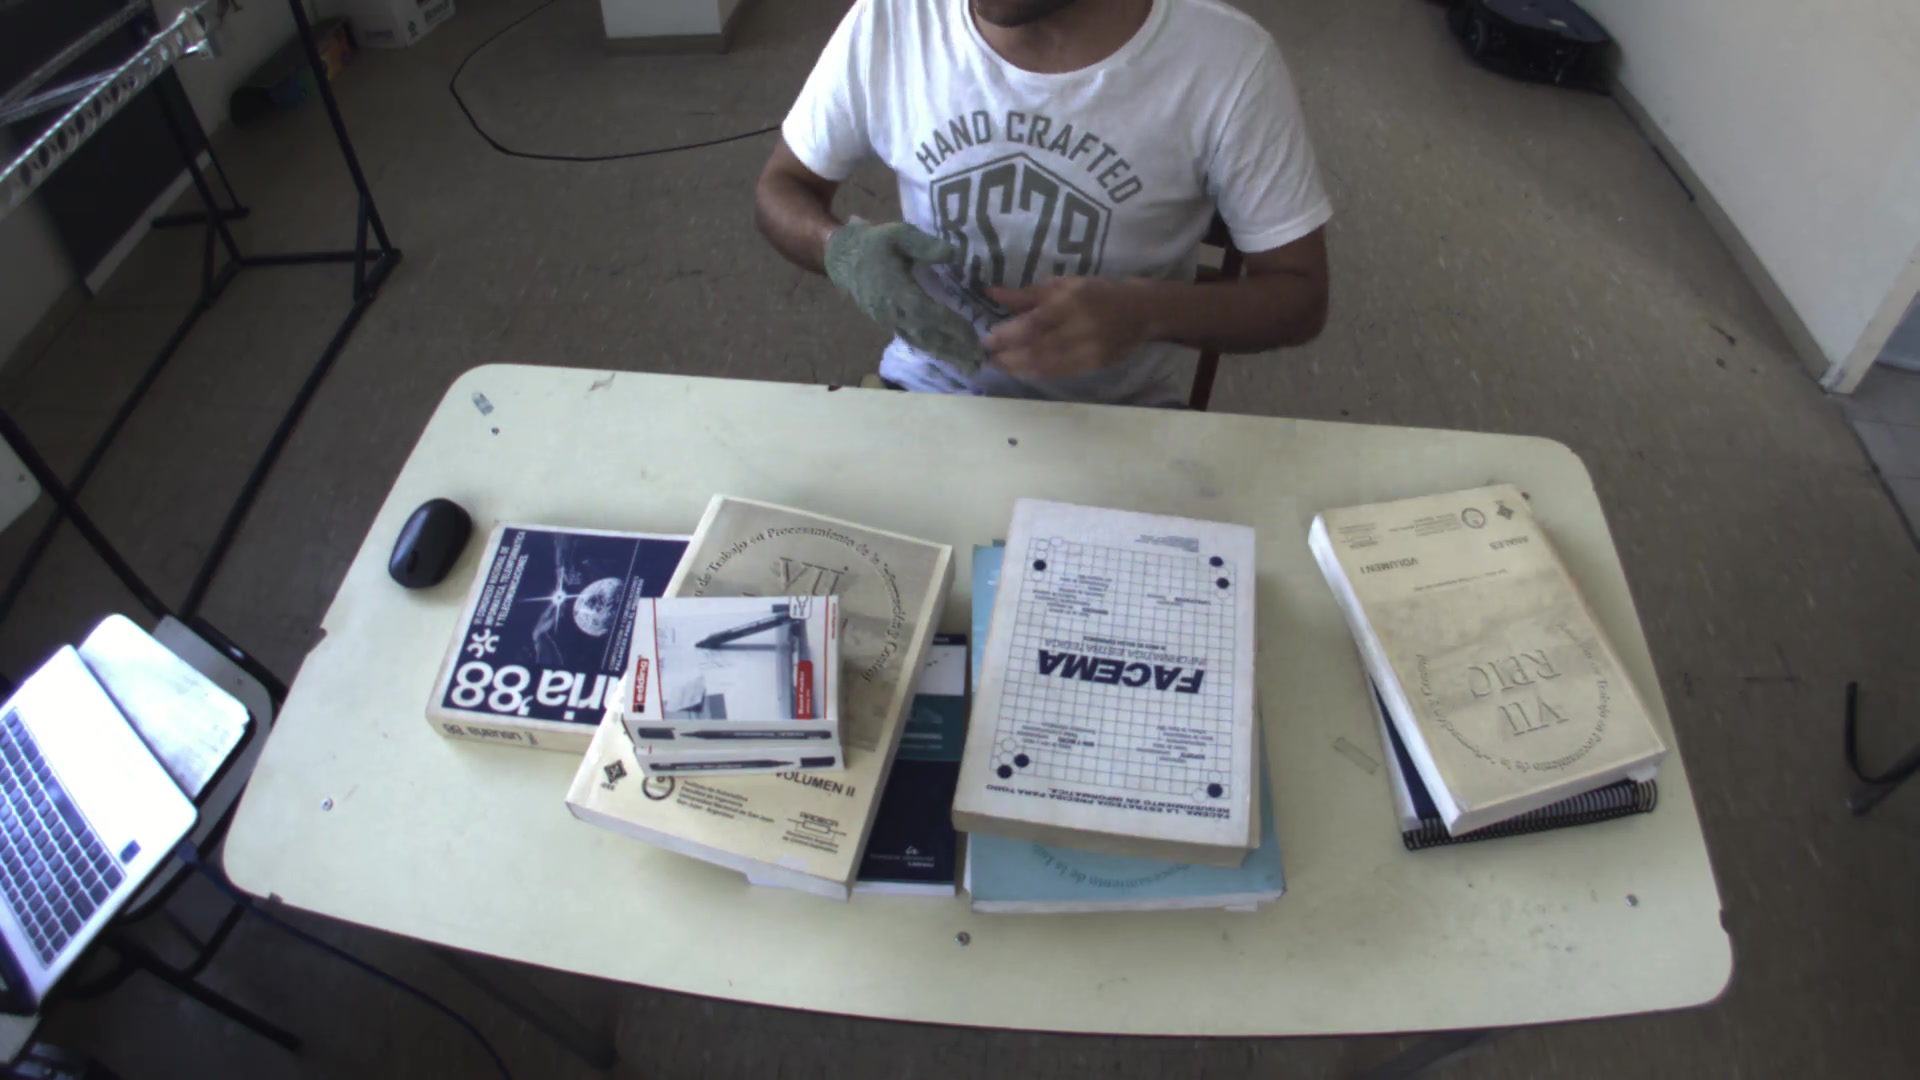hand: (816, 207, 1000, 353), (971, 253, 1159, 386)
